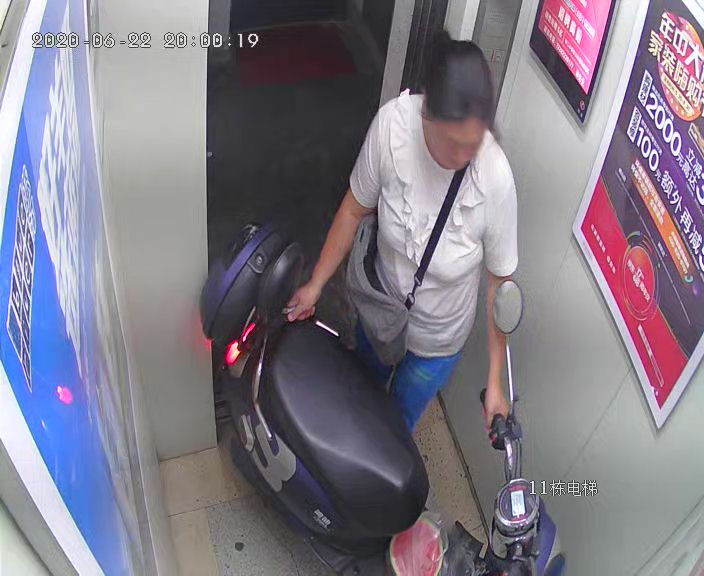Electric-bicycle: (205, 227, 560, 576)
